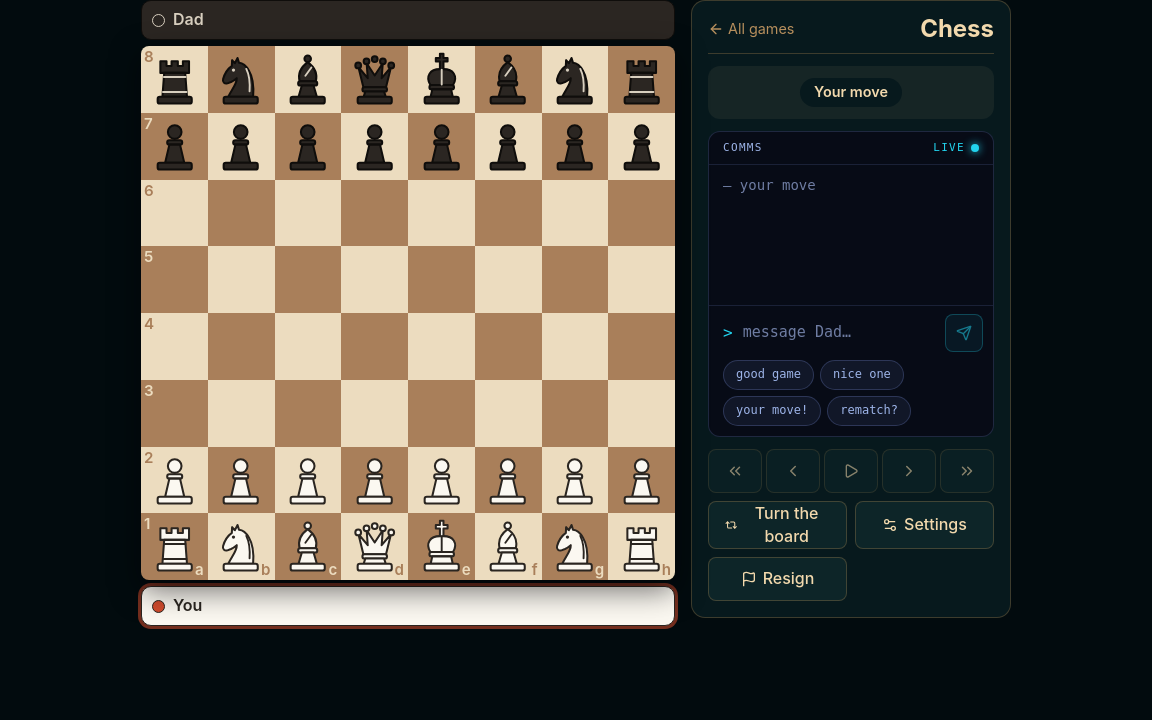
Test: online chess › sends a move to the server, and faces Black's board to Black
Expected: the message reads "Your move", [814,83,888,100]
Click the button named "e2, White pawn": (441, 480) [408,446,475,513]
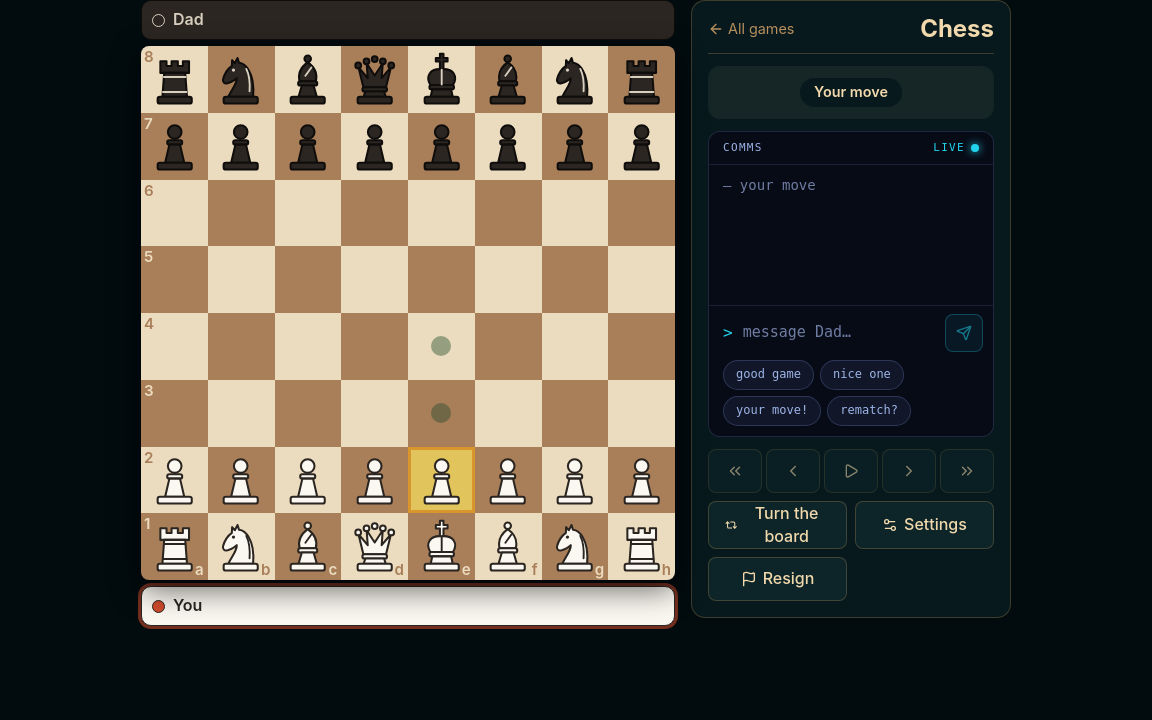
Click the button named "e4": (441, 346) [408,313,475,380]
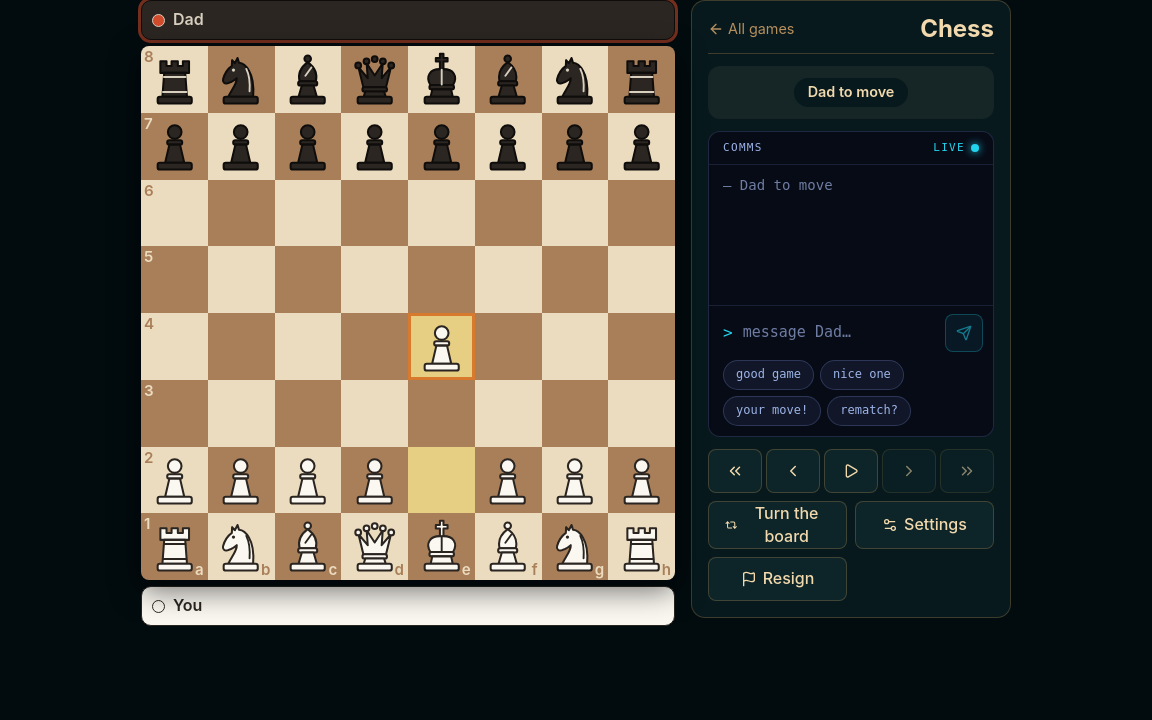
Expected: the message reads "Dad to move", [808,83,894,100]
